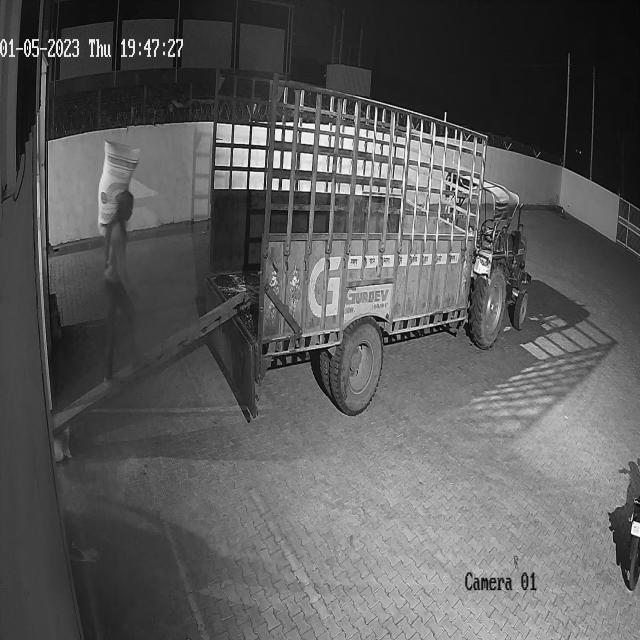sack: (98, 140, 140, 239)
